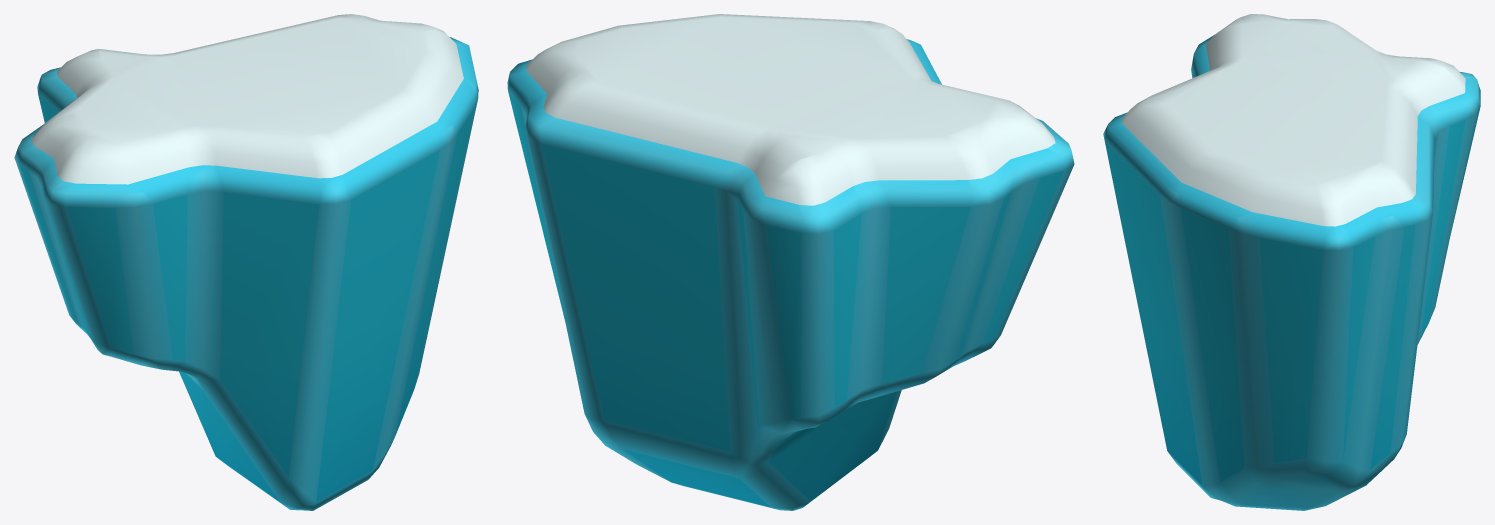
Rendered from ice_007.fbx.
3 renders of one model, left to right at view 1: azimuth 30°, elevation 25°; view 2: azimuth 150°, elevation 25°; view 3: azimuth 270°, elevation 25°, orthographic. The views are drawn at different scales.
Visible parts, largest first — view 1: ice_007; view 2: ice_007; view 3: ice_007.
Boxes of the visible parts, bbox=[...] form: ice_007: bbox=[14, 14, 478, 510]; ice_007: bbox=[507, 14, 1074, 510]; ice_007: bbox=[1103, 14, 1480, 510].
Bounding box in the file's own units: 358 × 263 × 284.
